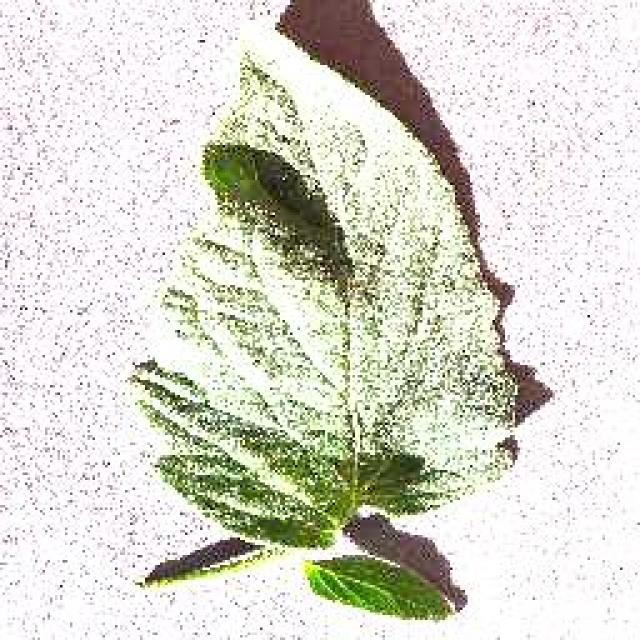Tomato___healthy: (118, 19, 522, 624)
